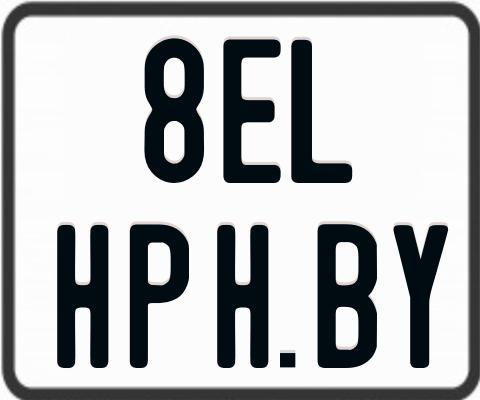8: (142, 37, 203, 186)
B: (316, 224, 376, 371)
E: (221, 36, 281, 183)
H: (217, 223, 270, 368), (55, 223, 107, 367)
L: (290, 39, 354, 188)
P: (130, 224, 194, 370)
Y: (394, 222, 450, 368)
